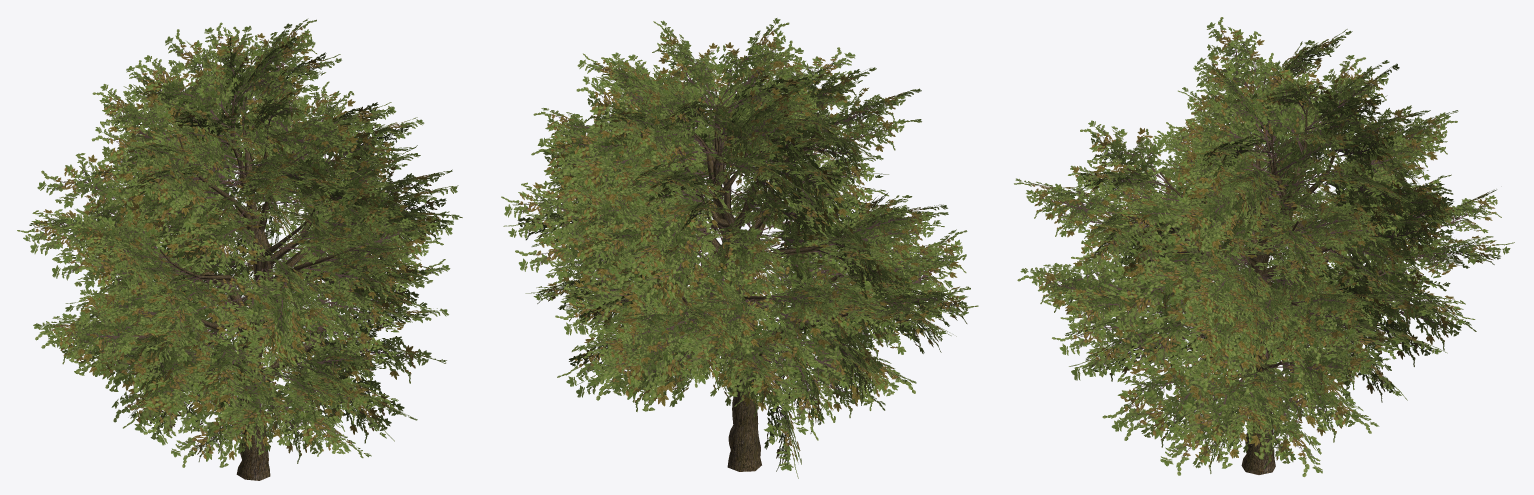
Rendered from SM_Tree01.FBX.
3 views of the same model, side by side, from view 1: azimuth 30°, elevation 25°; view 2: azimuth 150°, elevation 25°; view 3: azimuth 270°, elevation 25° (orthographic). The views are drawn at different scales.
Parts seen in each view (by area): view 1: SM_Tree01; view 2: SM_Tree01; view 3: SM_Tree01.
Boxes of the visible parts, bbox=[...] form: SM_Tree01: bbox=[17, 18, 462, 480]; SM_Tree01: bbox=[501, 18, 978, 478]; SM_Tree01: bbox=[1014, 17, 1514, 476].
Size of the model in its own units: 2130 by 2217 by 2033.
Materials: 2 (2 with a texture image).
